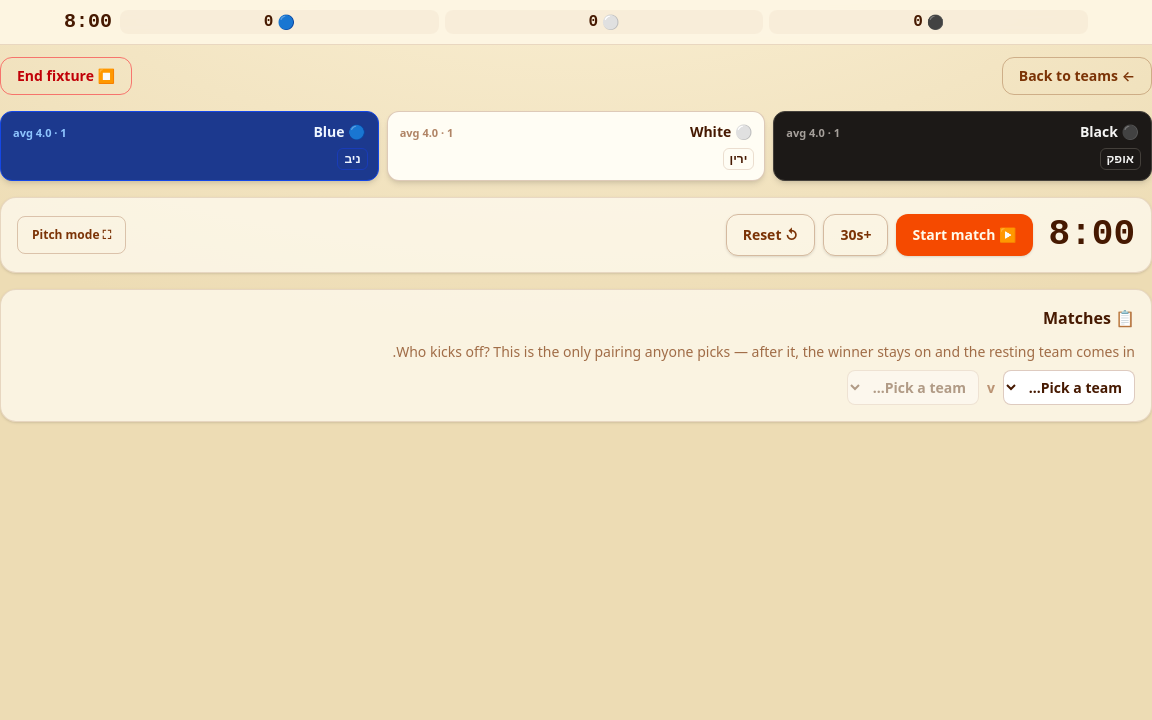
Test: ending a night › offers the note step only to a night being kept
The width and height of the screenshot is (1152, 720).
Step 1. Click the button "⏹️ End fixture" → (66, 76), box [0, 57, 132, 95]
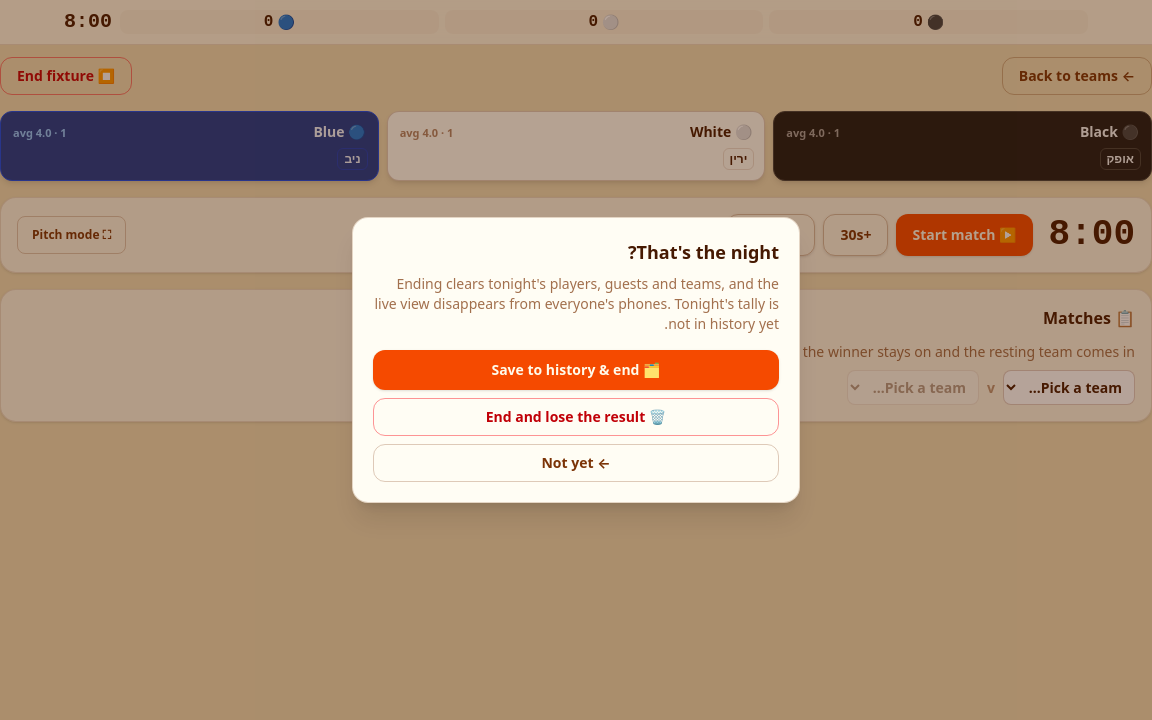
Step 2. Click the button "🗂️ Save to history & end" → (576, 370), box [373, 350, 779, 390]
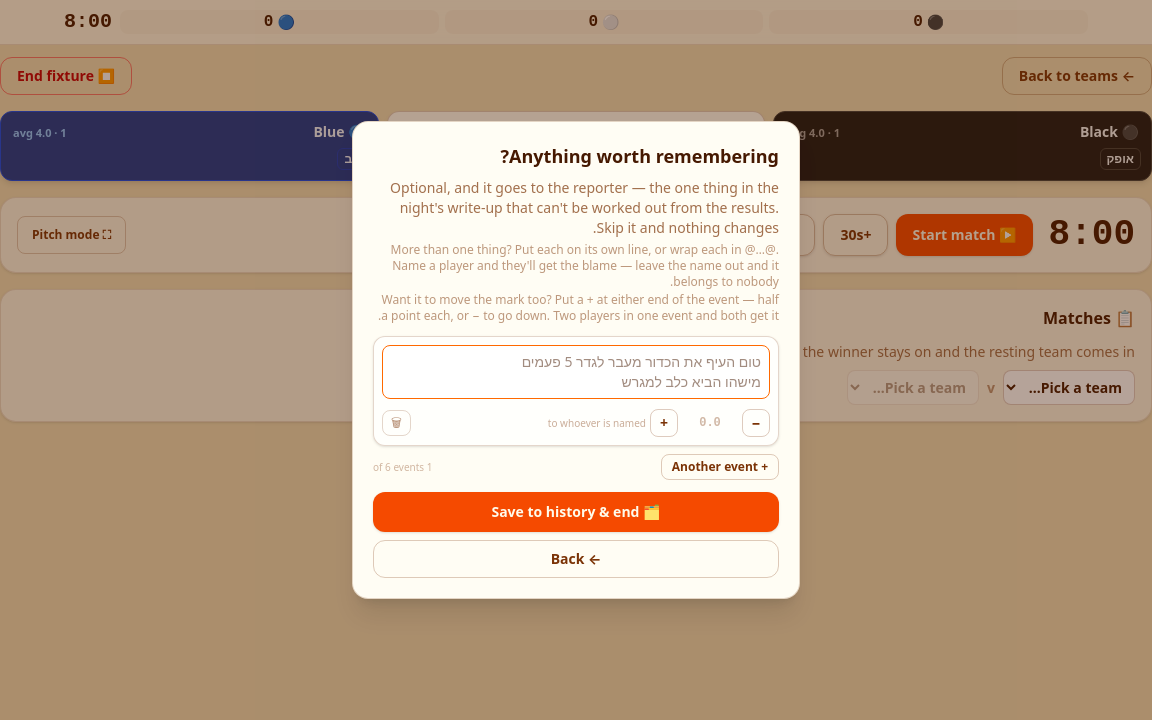
Result: the heading "Anything worth remembering?" is shown at [500, 144, 779, 168]
